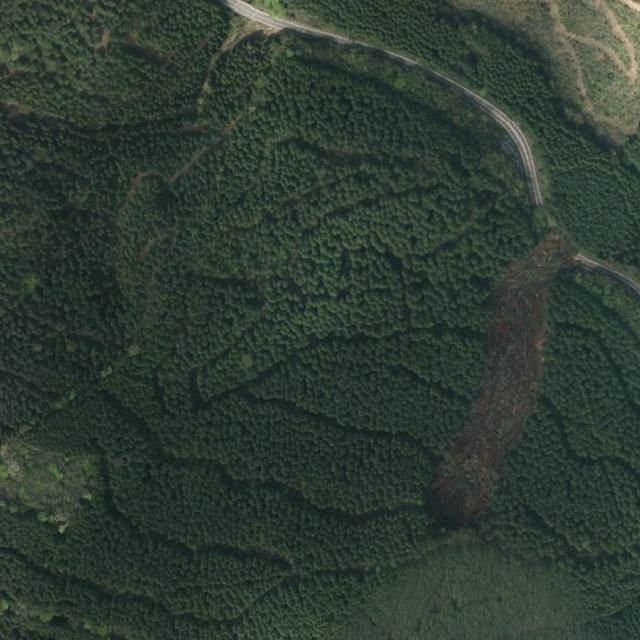landslide: (427, 229, 573, 528)
